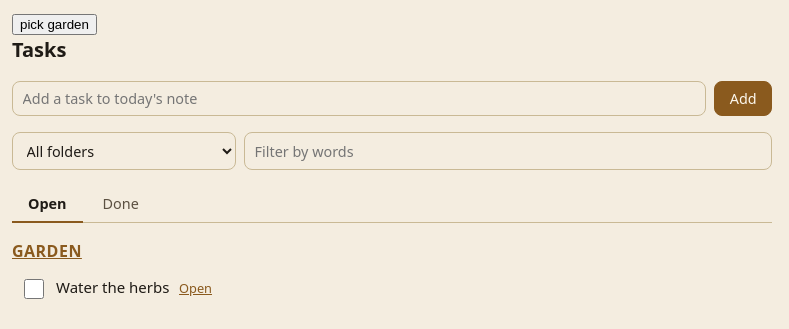
Test: TasksPage ticking › strikes a ticked row with Undo, and Undo sends an untick
Click the checkbox labelled "Water the herbs". click: click(34, 289)
box: x1=24 y1=279 x2=44 y2=299
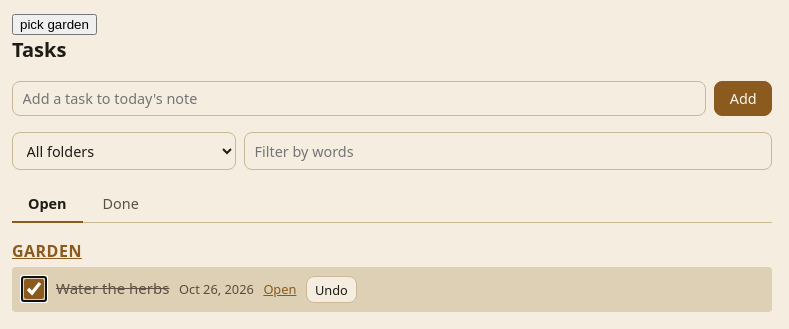
Now the list item "Water the herbs" has class "is-struck", box x1=12 y1=267 x2=772 y2=312
Now the checkbox labelled "Water the herbs" is checked, box x1=24 y1=279 x2=44 y2=299
Click the button "Undo". click: click(331, 290)
box: x1=306 y1=276 x2=357 y2=303
Wait 6000 ms
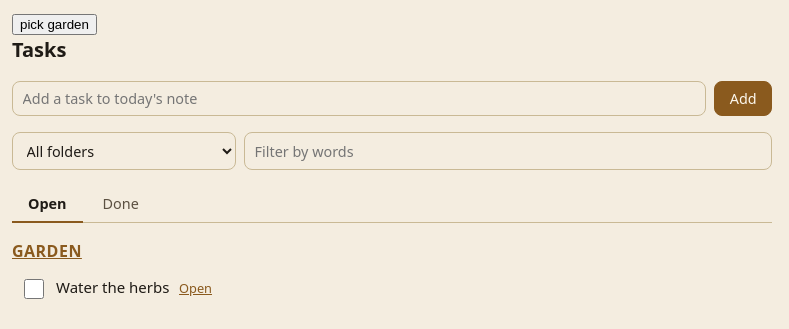
Expected: the text "Water the herbs" is shown, x1=56 y1=277 x2=169 y2=297
Now the checkbox labelled "Water the herbs" is not checked, box x1=24 y1=279 x2=44 y2=299
Now the button "Undo" is gone
